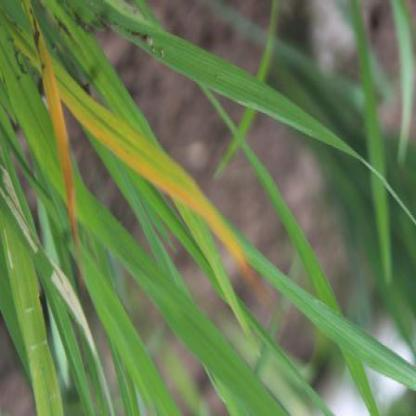Tungro: (44, 44, 262, 297), (14, 1, 82, 281)
